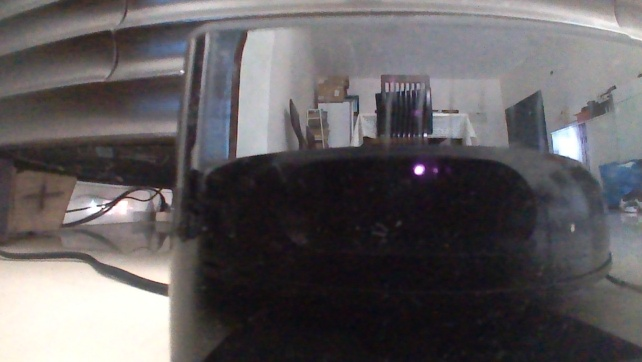wire: (0, 247, 169, 297), (55, 187, 165, 232), (105, 0, 129, 83)
